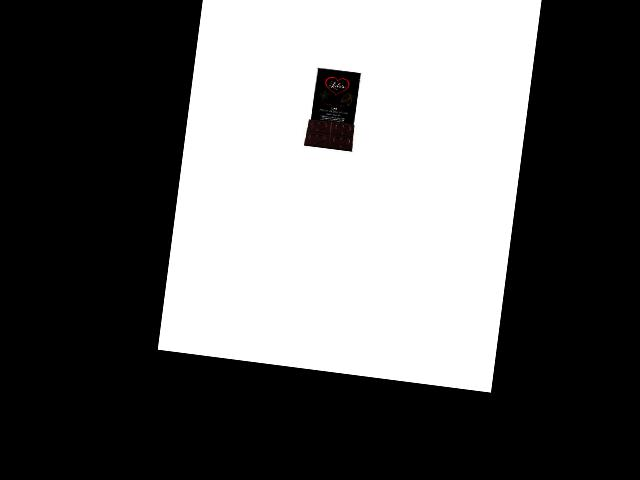chocolate: (300, 66, 363, 155)
